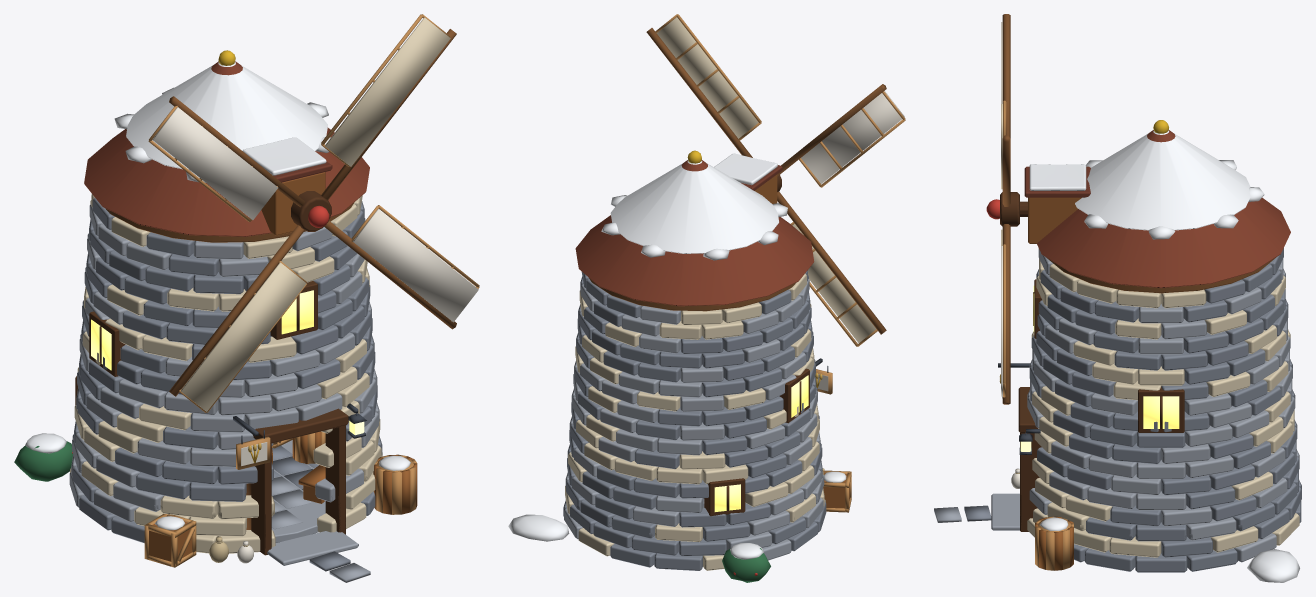
Rendered from windmill.glb.
The picture shows the model from 3 angles, left to right: view 1: azimuth 30°, elevation 25°; view 2: azimuth 150°, elevation 25°; view 3: azimuth 270°, elevation 25°; orthographic projection. The views are drawn at different scales.
Visible parts, largest first — view 1: walls, anim_blades, roof, exterior, floor, walls_low, interior; view 2: walls, roof, anim_blades, exterior; view 3: walls, roof, anim_blades, exterior, floor, walls_low.
Boxes of the visible parts, x1=… form: walls: x1=69, y1=194, x2=382, y2=555; anim_blades: x1=148, y1=14, x2=479, y2=412; roof: x1=84, y1=50, x2=369, y2=242; exterior: x1=14, y1=433, x2=417, y2=582; floor: x1=267, y1=440, x2=358, y2=565; walls_low: x1=72, y1=450, x2=381, y2=554; interior: x1=271, y1=431, x2=325, y2=503; walls: x1=563, y1=270, x2=832, y2=570; roof: x1=575, y1=150, x2=814, y2=311; anim_blades: x1=646, y1=14, x2=905, y2=346; exterior: x1=508, y1=468, x2=851, y2=582; walls: x1=998, y1=248, x2=1301, y2=572; roof: x1=1020, y1=120, x2=1290, y2=293; anim_blades: x1=986, y1=14, x2=1019, y2=404; exterior: x1=934, y1=468, x2=1299, y2=582; floor: x1=991, y1=493, x2=1019, y2=530; walls_low: x1=1020, y1=489, x2=1298, y2=539.
Bounding box in the file's own units: 5.15 × 7.72 × 5.52.
